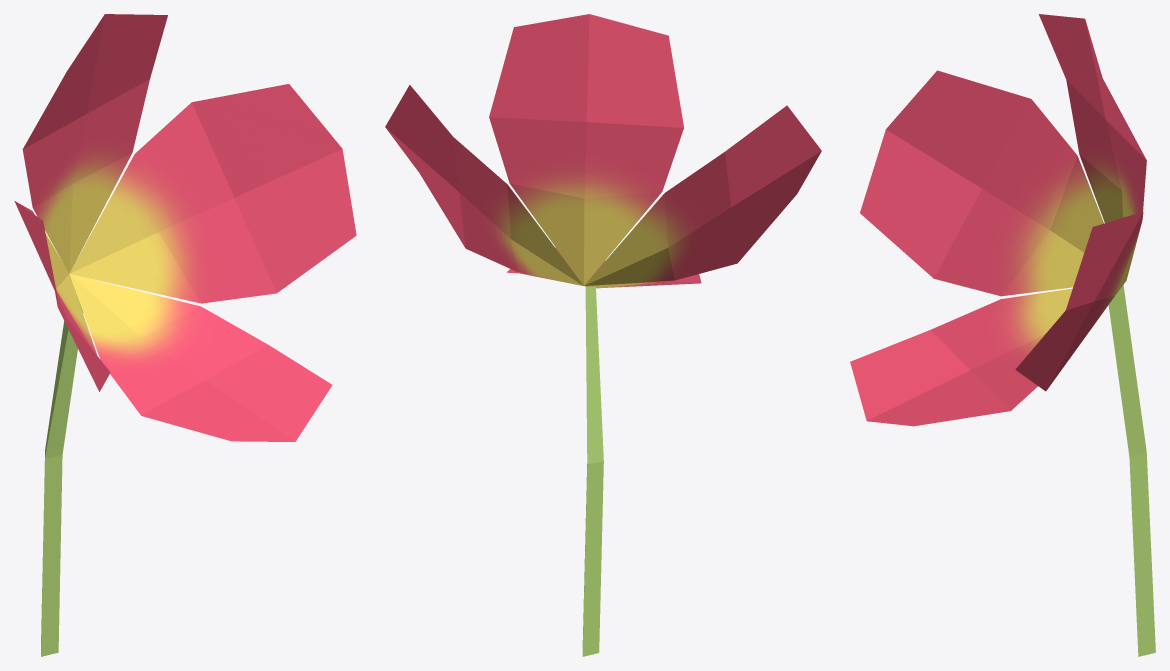
The model's file is Flower_c_TwoS_01.fbx.
3 views of the same model, side by side, from view 1: azimuth 30°, elevation 25°; view 2: azimuth 150°, elevation 25°; view 3: azimuth 270°, elevation 25° (orthographic). The views are drawn at different scales.
Parts seen in each view (by area): view 1: Flower_c_TwoS_01; view 2: Flower_c_TwoS_01; view 3: Flower_c_TwoS_01.
Boxes of the visible parts, bbox=[...] form: Flower_c_TwoS_01: bbox=[14, 14, 356, 656]; Flower_c_TwoS_01: bbox=[385, 14, 821, 656]; Flower_c_TwoS_01: bbox=[850, 14, 1155, 656].
Size of the model in its own units: 25.68 by 42.68 by 18.26.
